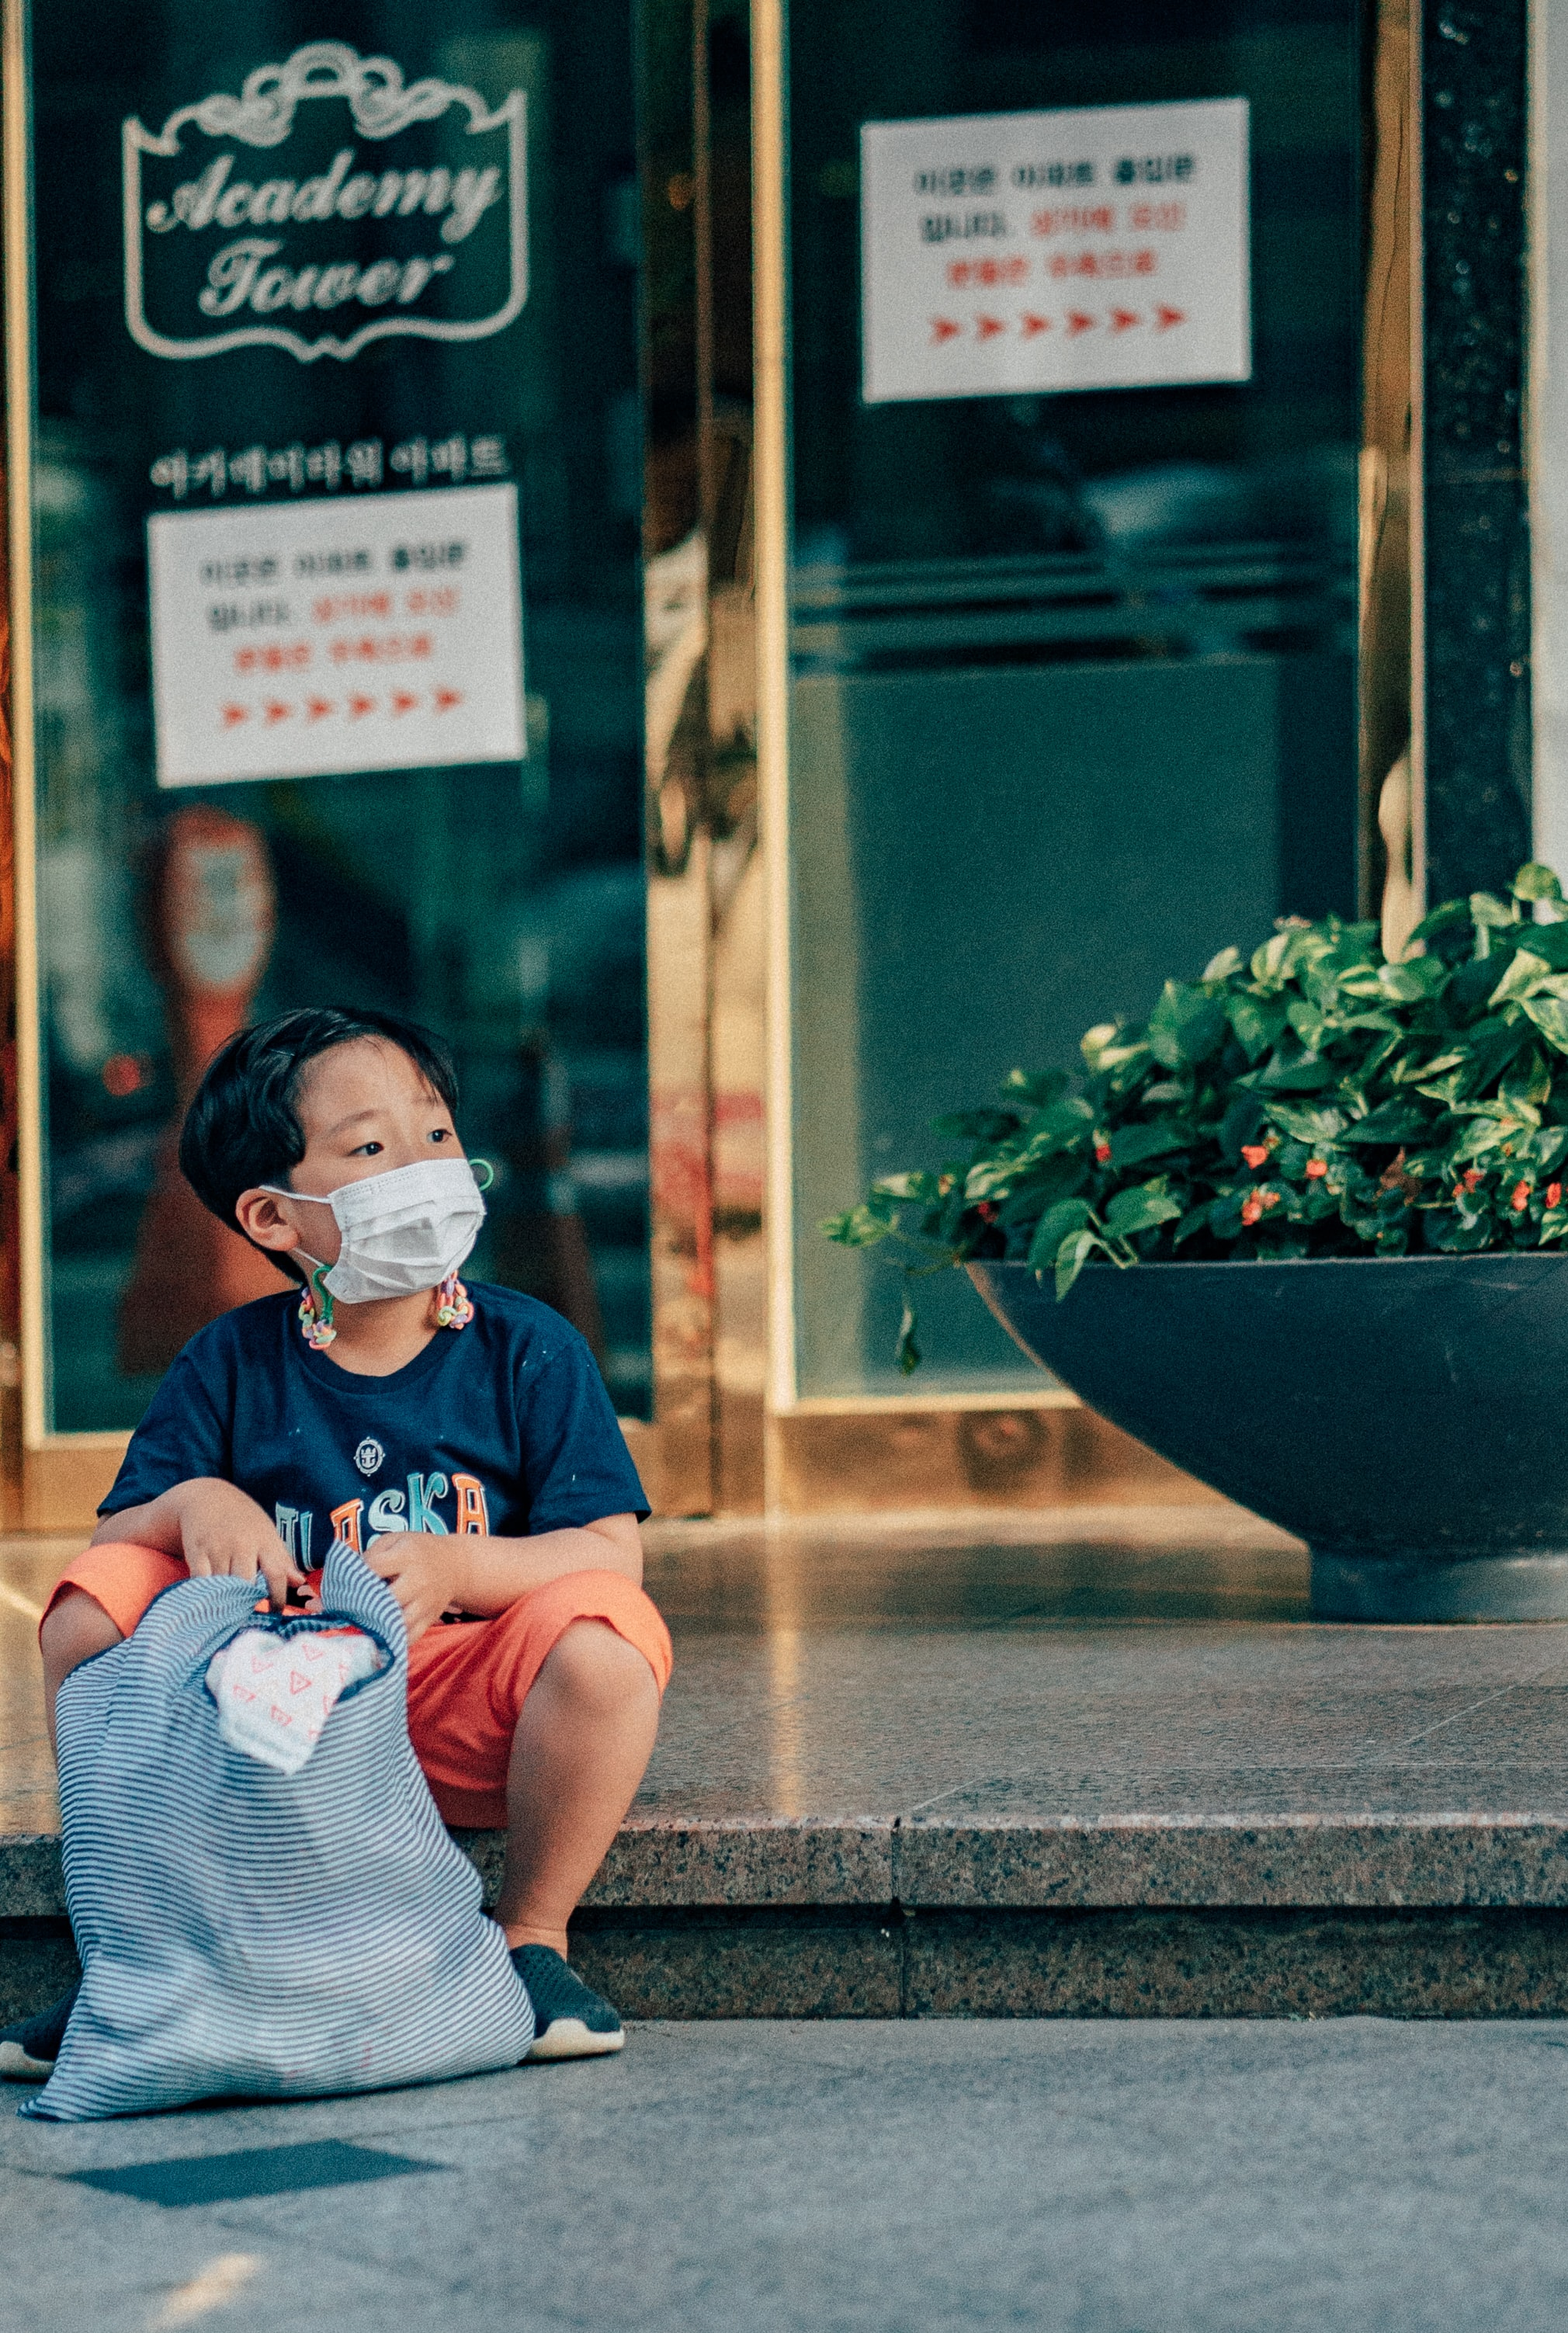mask: (248, 1152, 532, 1294)
person: (23, 987, 818, 2113)
